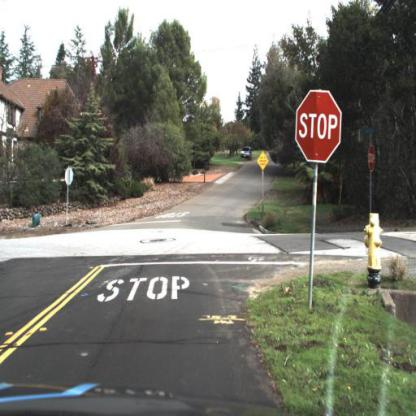car: (239, 142, 254, 162)
